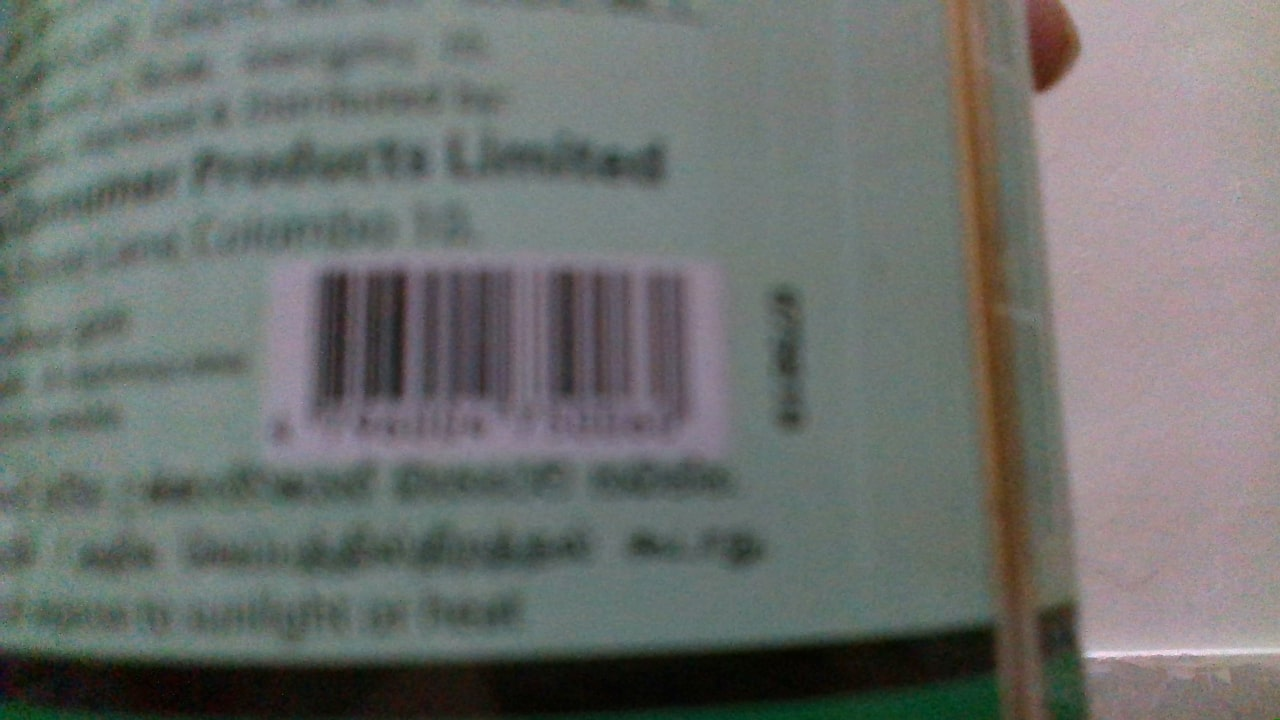Barcode: (302, 260, 700, 447)
